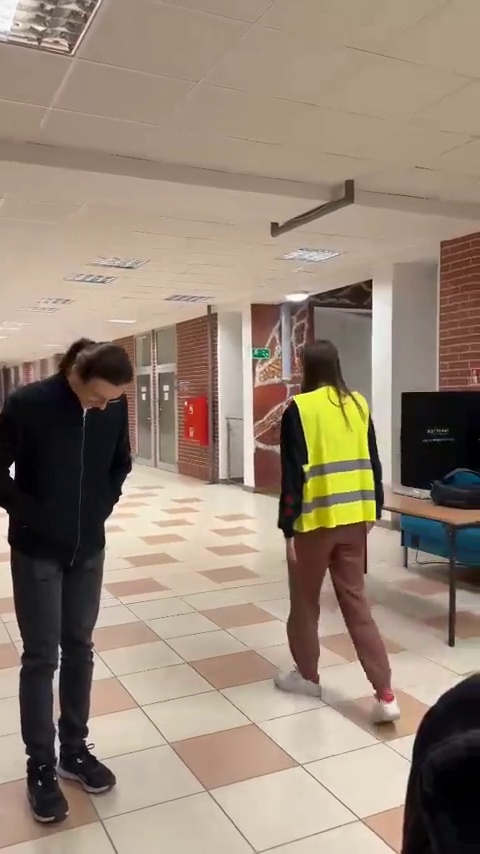no vest: (2, 325, 139, 833)
vest: (275, 335, 426, 722)
